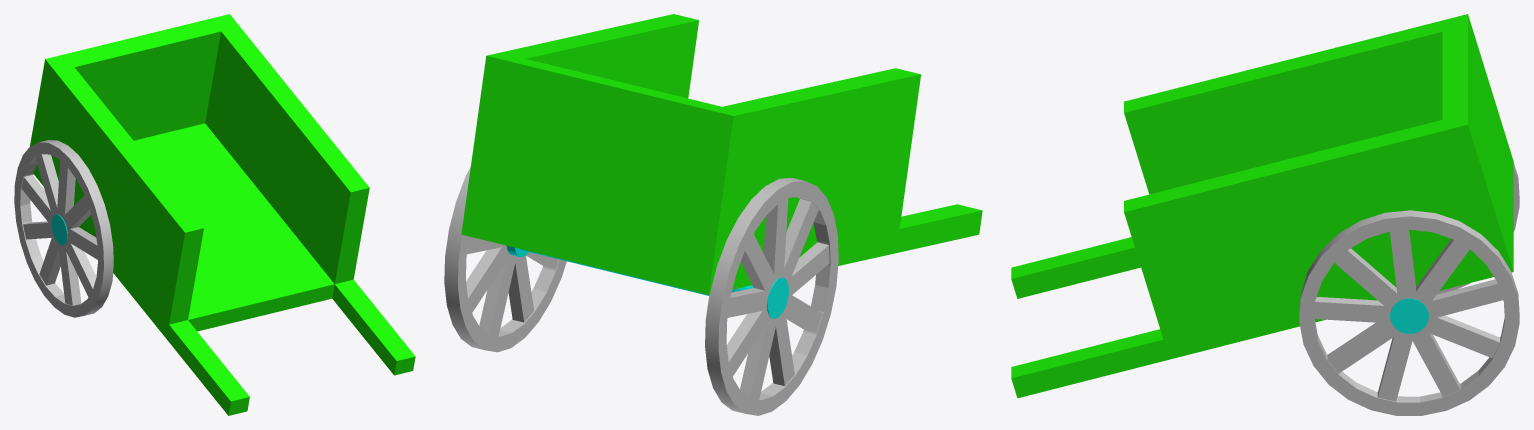
Rendered from Carro.fbx.
The picture shows the model from 3 angles, left to right: view 1: azimuth 30°, elevation 25°; view 2: azimuth 150°, elevation 25°; view 3: azimuth 270°, elevation 25°; orthographic projection. The views are drawn at different scales.
Parts seen in each view (by area): view 1: Box001, Cylinder001, Cylinder002; view 2: Box001, Cylinder001, Cylinder003, Cylinder002; view 3: Box001, Cylinder003, Cylinder002.
Part boxes in pixels (x1=…): Box001: x1=30, y1=14, x2=415, y2=415; Cylinder001: x1=14, y1=140, x2=113, y2=317; Cylinder002: x1=51, y1=214, x2=67, y2=245; Box001: x1=461, y1=14, x2=982, y2=294; Cylinder001: x1=705, y1=178, x2=838, y2=415; Cylinder003: x1=444, y1=167, x2=566, y2=352; Cylinder002: x1=506, y1=245, x2=788, y2=318; Box001: x1=1011, y1=14, x2=1513, y2=398; Cylinder003: x1=1299, y1=210, x2=1519, y2=415; Cylinder002: x1=1390, y1=298, x2=1428, y2=333.
Bounding box in the file's own units: 27.54 × 29.84 × 48.23.
